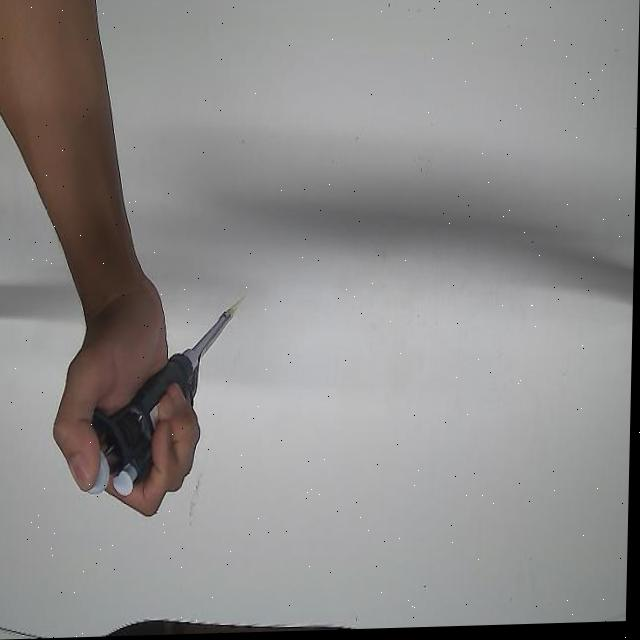Single Channel Pipettor: (83, 308, 238, 499)
